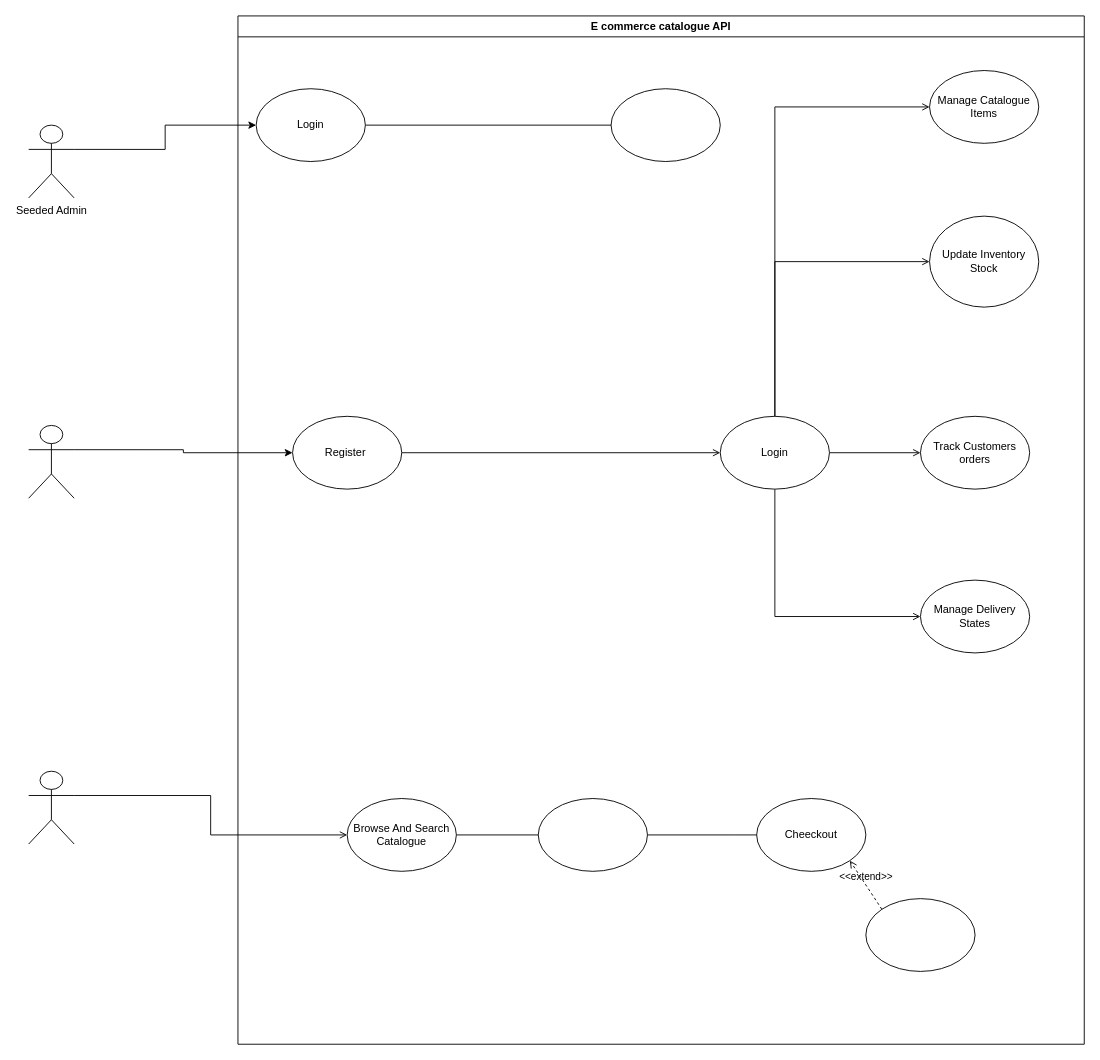
Image size: 1100x1060. Some labels were removed from this diagram. Here are the shapes that lost their labels. From the top down, the centre of each, then its label:
(665,125): Approves/Reject registered Admins
(51,461): Admin
(51,807): Customer
(592,834): Manage Cart
(920,934): register/login
